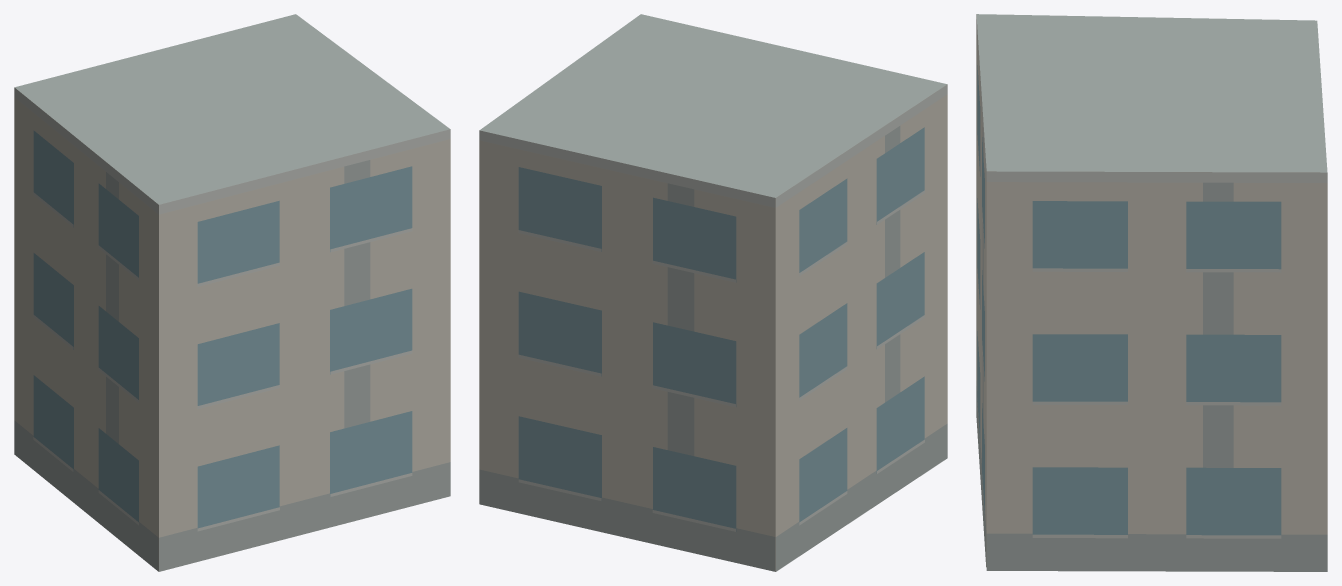
Rendered from survey-upis-32463122.glb.
3 renders of one model, left to right at view 1: azimuth 30°, elevation 25°; view 2: azimuth 150°, elevation 25°; view 3: azimuth 270°, elevation 25°, orthographic. The views are drawn at different scales.
Parts seen in each view (by area): view 1: survey-upis-32463122.tmp; view 2: survey-upis-32463122.tmp; view 3: survey-upis-32463122.tmp.
Part boxes in pixels (x1,y1,x2,y2): survey-upis-32463122.tmp: [14, 14, 450, 571]; survey-upis-32463122.tmp: [479, 14, 947, 571]; survey-upis-32463122.tmp: [976, 14, 1327, 571].
Bounding box in the file's own units: 7.8 × 9.15 × 7.3.
